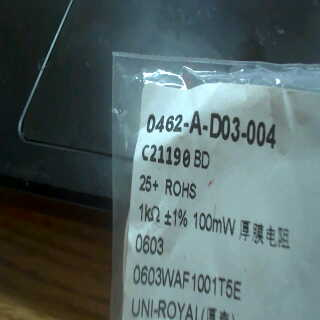1kR: (137, 202, 164, 224)
